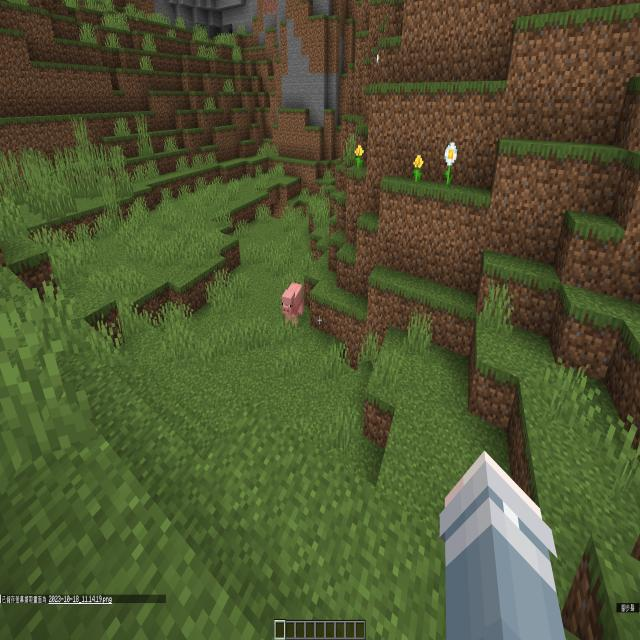pig: (279, 272, 307, 331)
